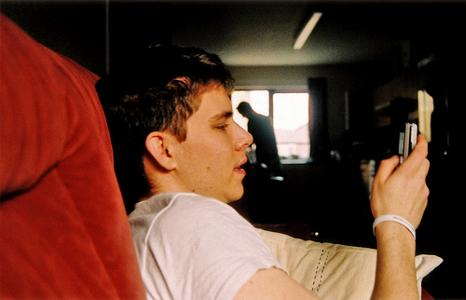person: (97, 42, 430, 300)
